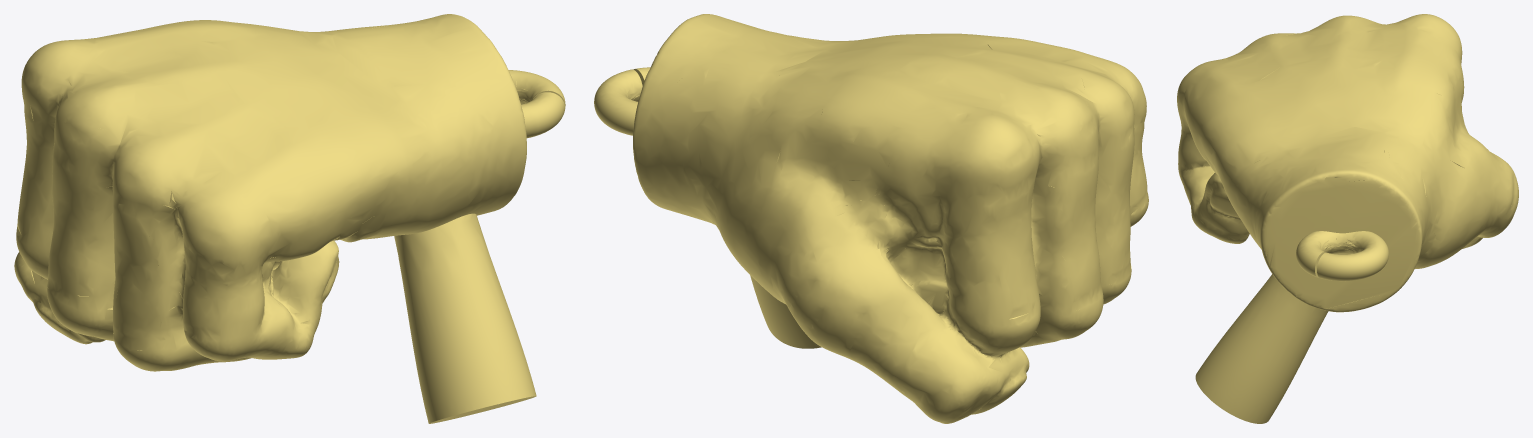
The model's file is yumruk01.glb.
3 renders of one model, left to right at view 1: azimuth 30°, elevation 25°; view 2: azimuth 150°, elevation 25°; view 3: azimuth 270°, elevation 25°, orthographic. The views are drawn at different scales.
Visible parts, largest first — view 1: Renderer Node; view 2: Renderer Node; view 3: Renderer Node.
Boxes of the visible parts, bbox=[...] form: Renderer Node: bbox=[14, 14, 565, 423]; Renderer Node: bbox=[594, 14, 1148, 423]; Renderer Node: bbox=[1177, 14, 1518, 423].
Size of the model in its own units: 17.42 by 12.47 by 13.38.
